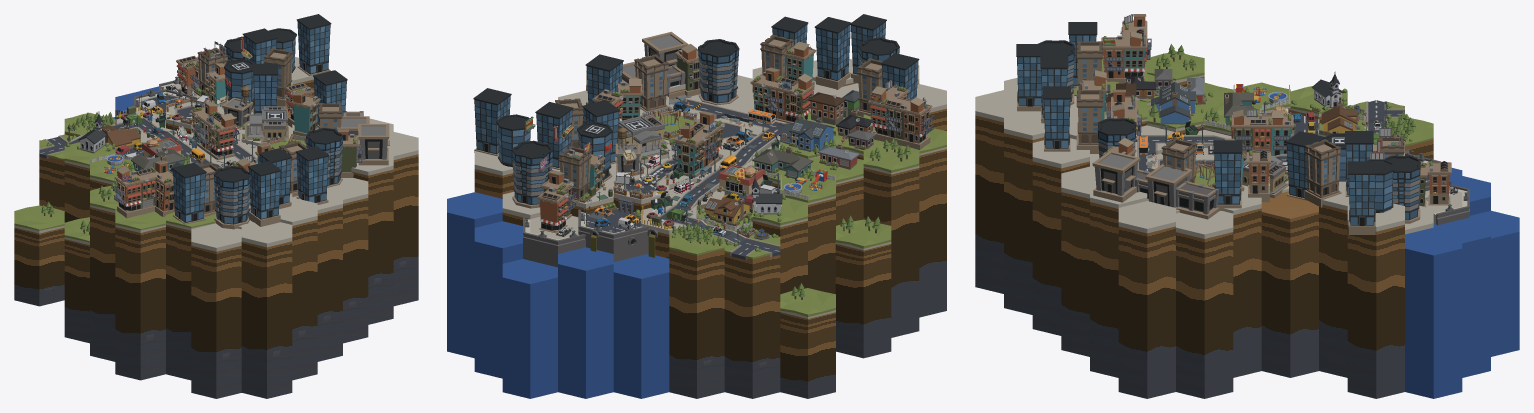
File: city_model-transformed.glb
The picture shows the model from 3 angles, left to right: view 1: azimuth 30°, elevation 25°; view 2: azimuth 150°, elevation 25°; view 3: azimuth 270°, elevation 25°; orthographic projection. The views are drawn at different scales.
Visible parts, largest first — view 1: SketchfabCity_PolygonMiniCity_01_0, SketchfabCity_Water_0; view 2: SketchfabCity_PolygonMiniCity_01_0, SketchfabCity_Water_0; view 3: SketchfabCity_PolygonMiniCity_01_0, SketchfabCity_Water_0.
Boxes of the visible parts, x1=… form: SketchfabCity_PolygonMiniCity_01_0: x1=14, y1=14, x2=418, y2=398; SketchfabCity_Water_0: x1=113, y1=86, x2=158, y2=118; SketchfabCity_PolygonMiniCity_01_0: x1=473, y1=14, x2=946, y2=398; SketchfabCity_Water_0: x1=447, y1=192, x2=669, y2=398; SketchfabCity_PolygonMiniCity_01_0: x1=975, y1=14, x2=1469, y2=398; SketchfabCity_Water_0: x1=1405, y1=168, x2=1519, y2=398.
Bounding box in the file's own units: 36.22 × 22.65 × 47.5.
5 materials, 5 textured.
